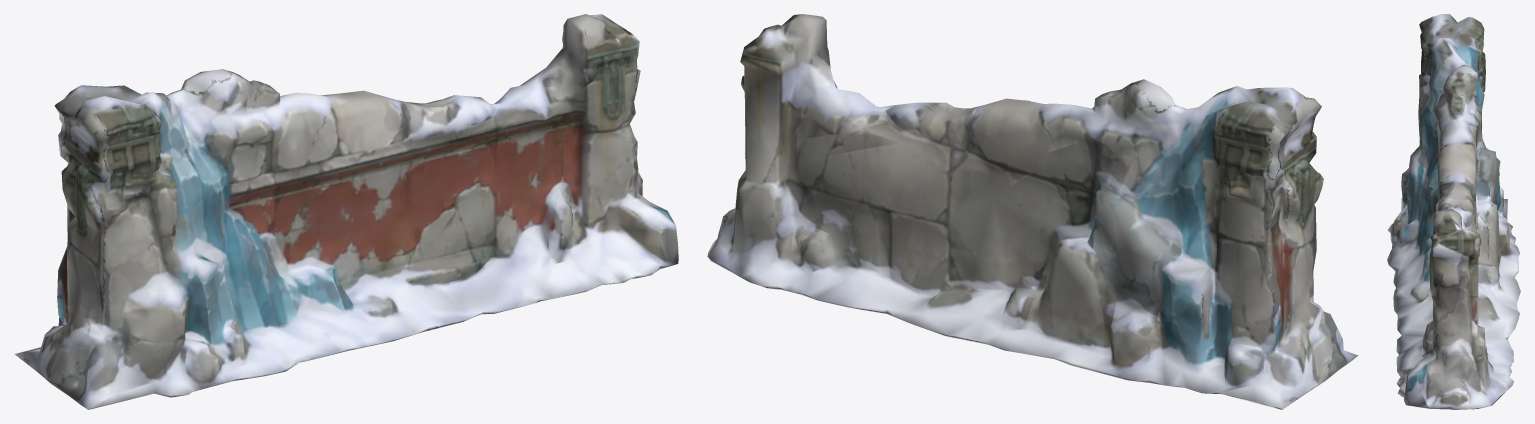
Rendered from SM_Tripo_FrostCoverWall.glb.
3 views of the same model, side by side, from view 1: azimuth 30°, elevation 25°; view 2: azimuth 150°, elevation 25°; view 3: azimuth 270°, elevation 25° (orthographic). The views are drawn at different scales.
Visible parts, largest first — view 1: SM_Tripo_FrostCoverWall_LOD0; view 2: SM_Tripo_FrostCoverWall_LOD0; view 3: SM_Tripo_FrostCoverWall_LOD0.
Part boxes in pixels (bbox=[...]): SM_Tripo_FrostCoverWall_LOD0: bbox=[14, 14, 678, 409]; SM_Tripo_FrostCoverWall_LOD0: bbox=[707, 14, 1358, 409]; SM_Tripo_FrostCoverWall_LOD0: bbox=[1387, 14, 1520, 409].
Size of the model in its own units: 5.57 by 2.47 by 1.49.
Materials: 1 (1 with a texture image).
